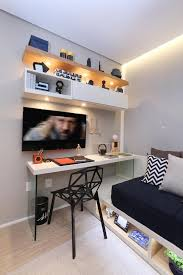Chair: (49, 163, 112, 262)
Table: (21, 155, 136, 243)
